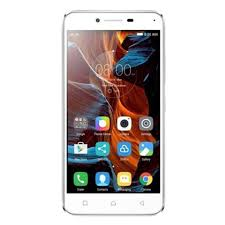lenovo: (60, 8, 165, 218)
